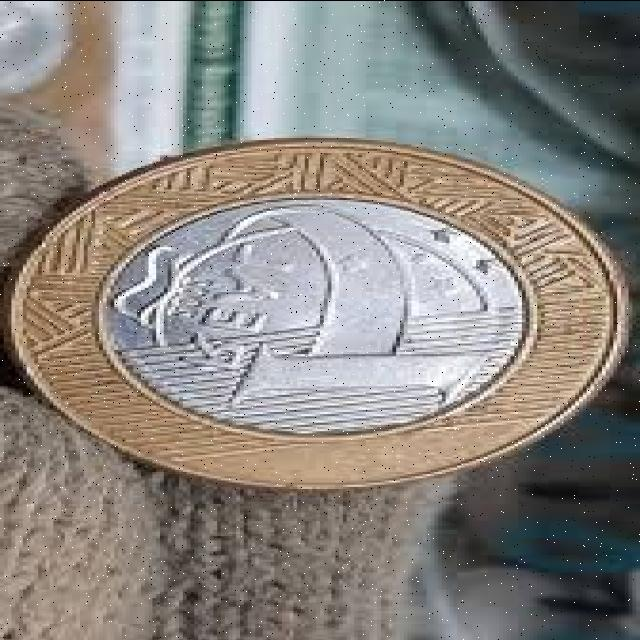1 real: (18, 156, 629, 472)
